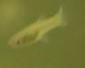Mosquito Fish: (8, 6, 67, 49)
